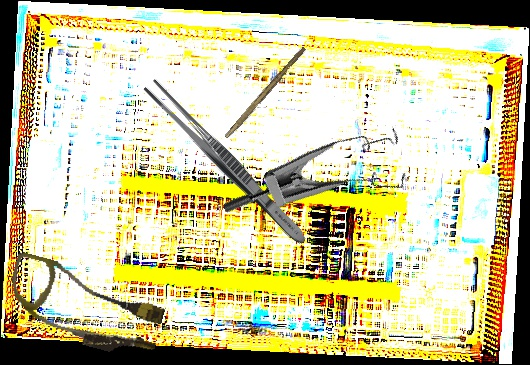Cannula: (0, 251, 170, 363)
Dressing Forceps: (139, 76, 313, 250)
Scalpel Handle: (224, 44, 307, 142)
Speculum: (220, 98, 425, 278)
